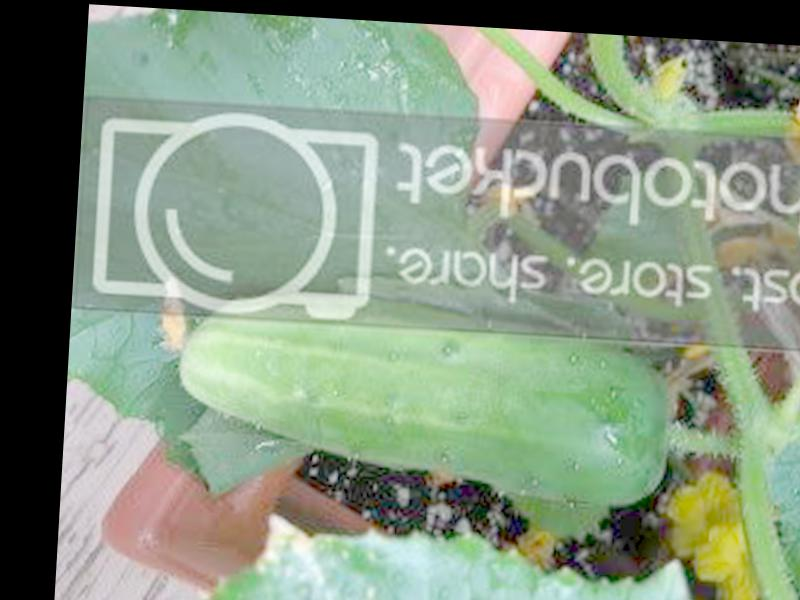Cucumber: (168, 284, 671, 510)
